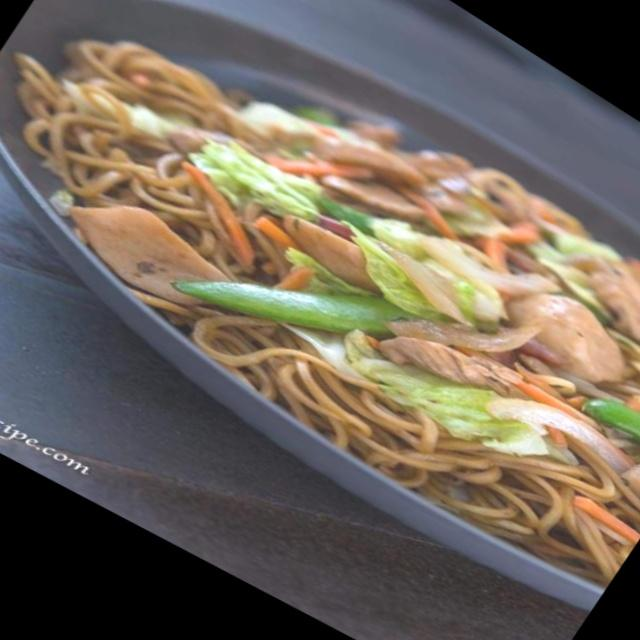pancit bihon: (26, 36, 639, 596)
